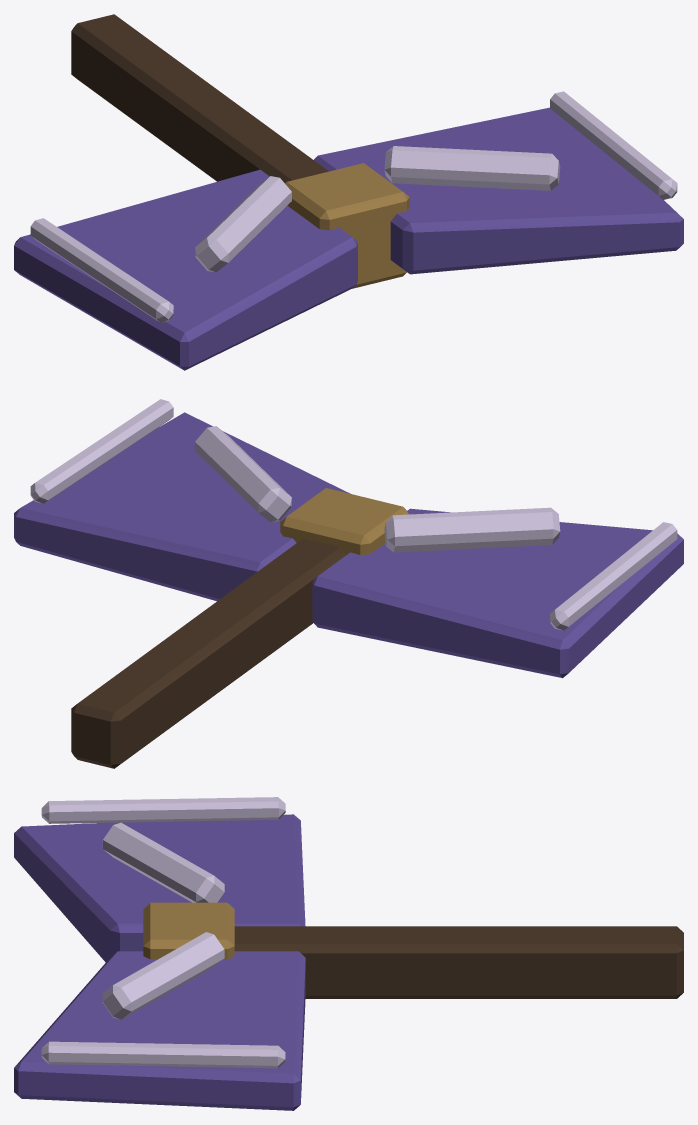
The model's file is guardian_lightning.glb.
3 views of the same model, one above another, from view 1: azimuth 30°, elevation 25°; view 2: azimuth 150°, elevation 25°; view 3: azimuth 270°, elevation 25° (orthographic). The views are drawn at different scales.
Parts seen in each view (by area): view 1: weapon.014; view 2: weapon.014; view 3: weapon.014.
Part boxes in pixels (left/top/right/bottom): weapon.014: left=14, top=14, right=683, bottom=370; weapon.014: left=14, top=399, right=683, bottom=768; weapon.014: left=14, top=797, right=683, bottom=1110.
Size of the model in its own units: 1.24 by 0.2151 by 1.32.
